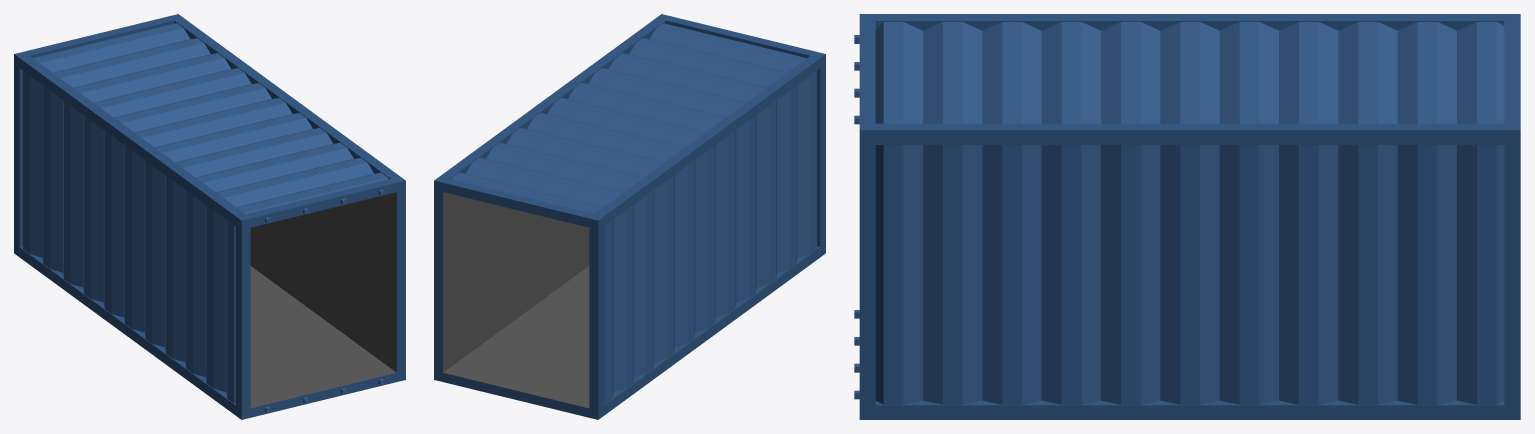
Rendered from SM_Props_ShippingContainer_03.glb.
3 views of the same model, side by side, from view 1: azimuth 30°, elevation 25°; view 2: azimuth 150°, elevation 25°; view 3: azimuth 270°, elevation 25° (orthographic). The views are drawn at different scales.
Parts seen in each view (by area): view 1: SM_Props_ShippingContainer_03; view 2: SM_Props_ShippingContainer_03; view 3: SM_Props_ShippingContainer_03.
Boxes of the visible parts, x1,y1,x2,y2 form: SM_Props_ShippingContainer_03: [14, 14, 405, 419]; SM_Props_ShippingContainer_03: [434, 14, 825, 419]; SM_Props_ShippingContainer_03: [854, 14, 1520, 419].
Size of the model in its own units: 2.5 by 2.9 by 6.05.
Materials: 1 (1 with a texture image).
